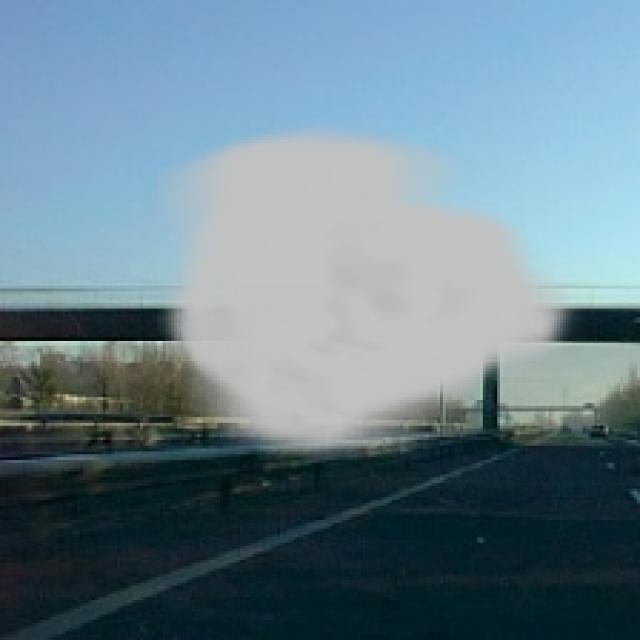Smoke: (157, 122, 580, 468)
